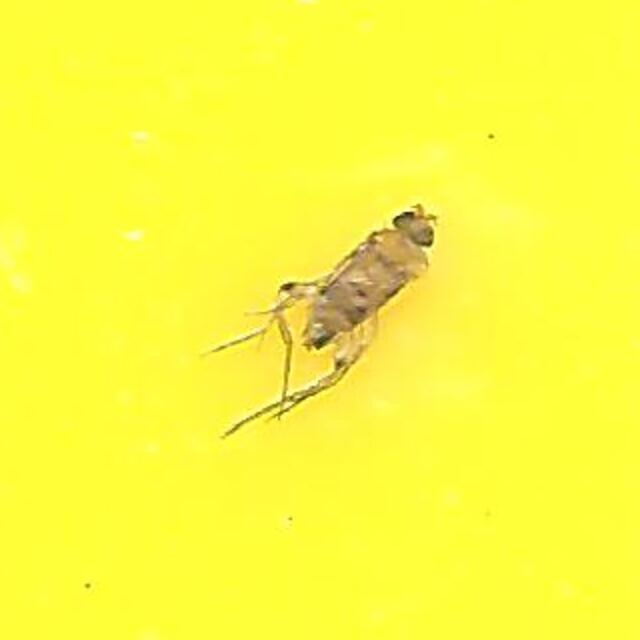Brachycera: (200, 200, 440, 440)
